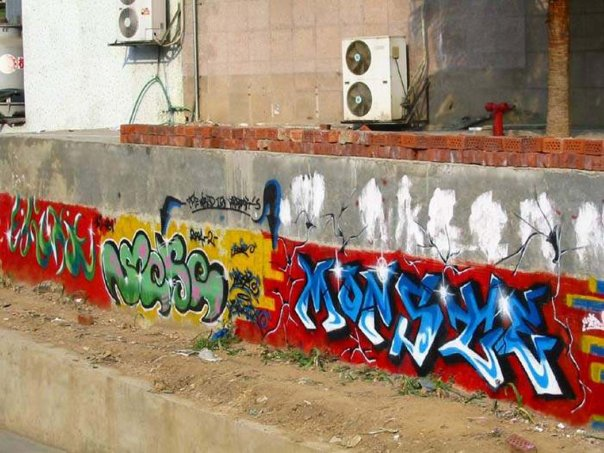graffity: (280, 236, 579, 419), (154, 175, 289, 343), (96, 224, 232, 338), (1, 193, 100, 294)
